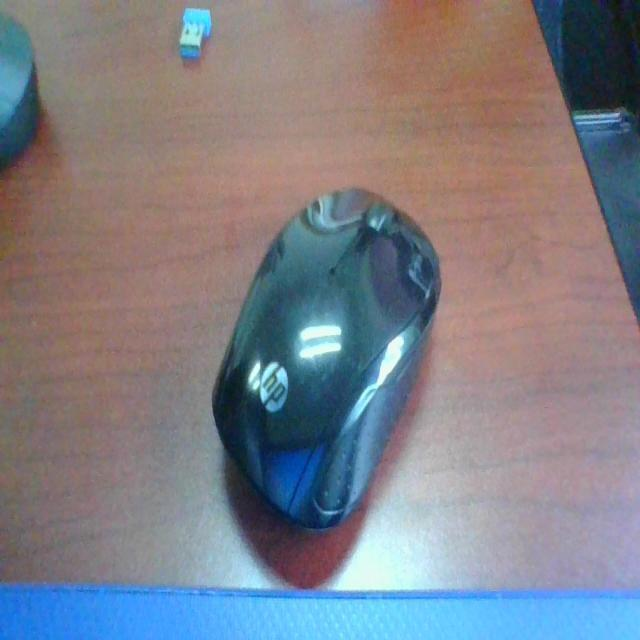mouse: (197, 171, 488, 558)
